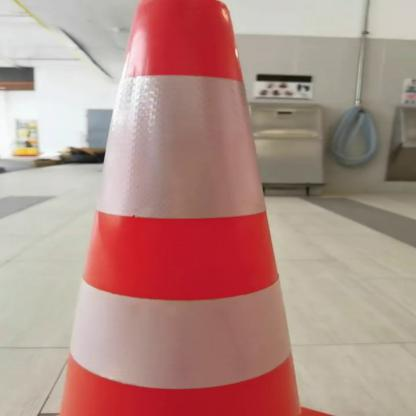cone: (27, 0, 354, 416)
